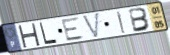B: (128, 7, 152, 34)
E: (60, 16, 86, 42)
H: (17, 22, 42, 48)
I: (116, 10, 127, 35)
L: (39, 21, 59, 45)
V: (82, 11, 101, 40)
